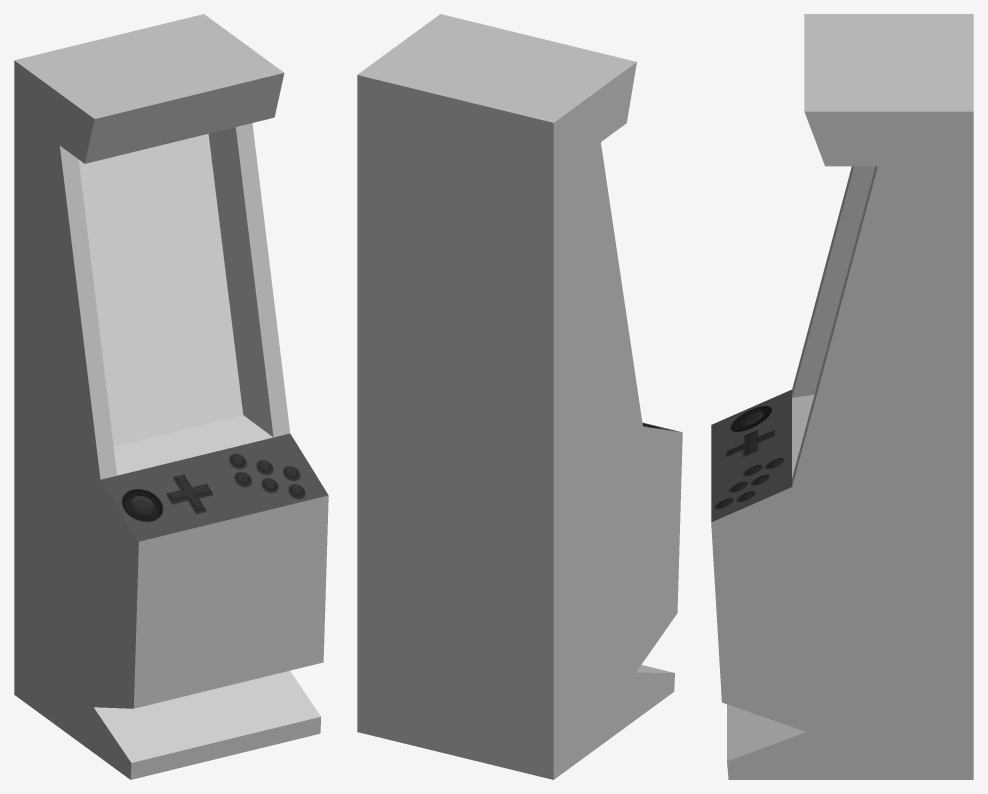
Rendered from InteriorItem_003.fbx.
3 renders of one model, left to right at view 1: azimuth 30°, elevation 25°; view 2: azimuth 150°, elevation 25°; view 3: azimuth 270°, elevation 25°, orthographic. The views are drawn at different scales.
Parts seen in each view (by area): view 1: InteriorItem_003; view 2: InteriorItem_003; view 3: InteriorItem_003.
Boxes of the visible parts, <box> form: InteriorItem_003: <box>14,14,328,779</box>; InteriorItem_003: <box>357,14,682,779</box>; InteriorItem_003: <box>711,14,973,779</box>.
Bounding box in the file's own units: 72.95 × 233 × 83.
